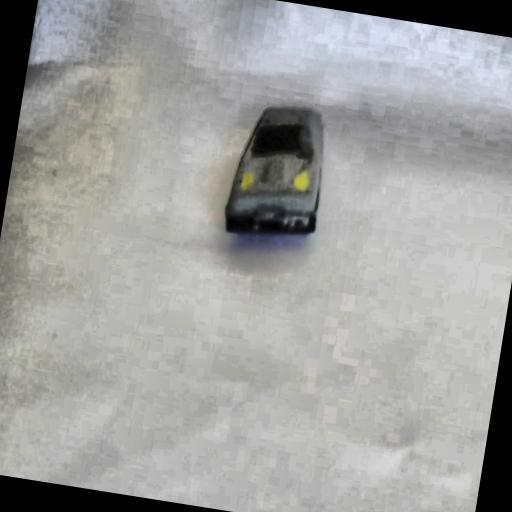normal_car: (217, 94, 338, 248)
